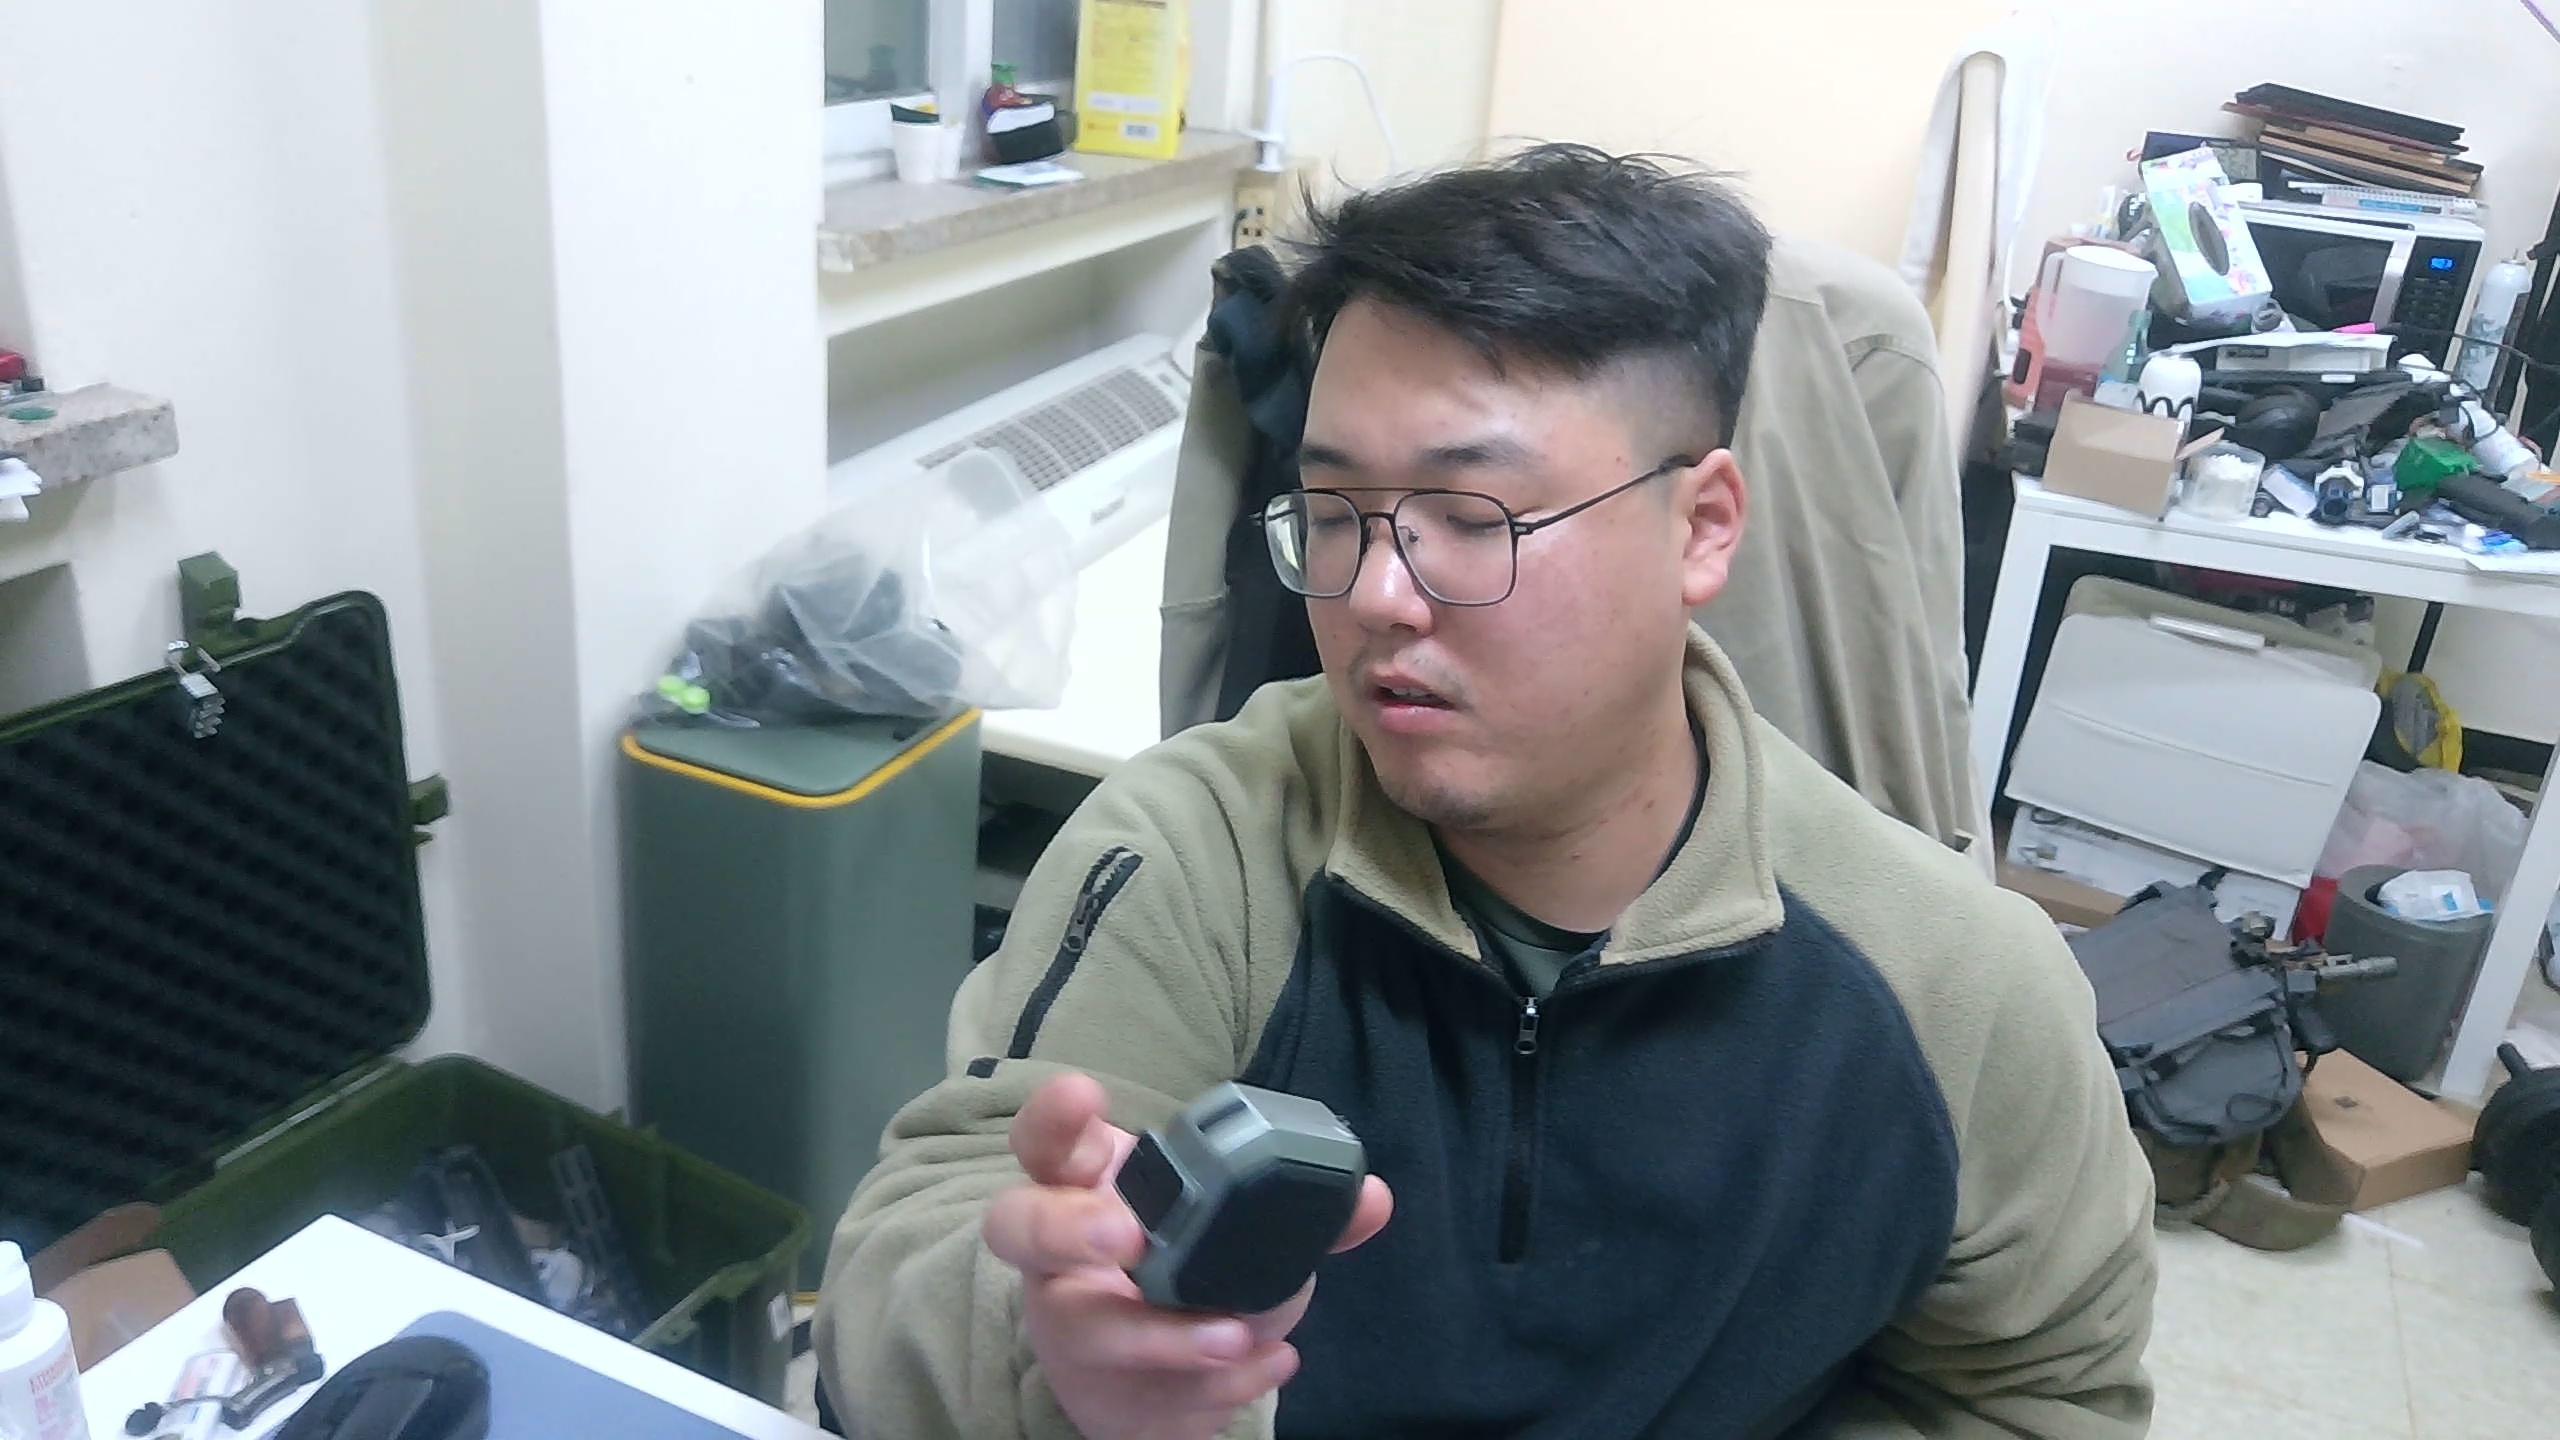blue_pliers: (1109, 1078, 1371, 1319)
